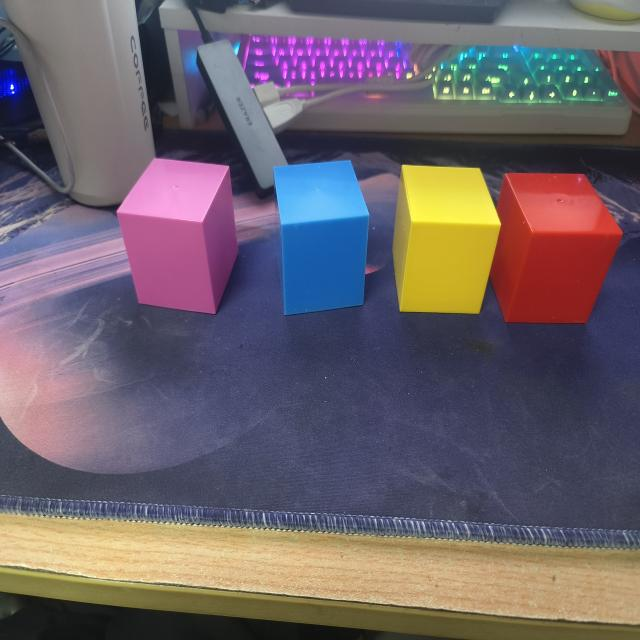blue: (272, 159, 371, 318)
pink: (116, 159, 239, 317)
red: (490, 170, 623, 328)
yellow: (391, 164, 505, 320)
